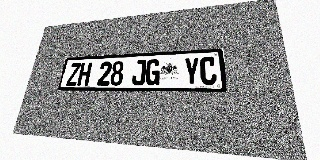2: (97, 61, 112, 86)
8: (109, 61, 125, 86)
C: (200, 56, 217, 85)
G: (145, 59, 160, 85)
H: (77, 62, 92, 86)
J: (131, 60, 147, 85)
Y: (184, 57, 200, 85)
Z: (66, 63, 81, 86)
